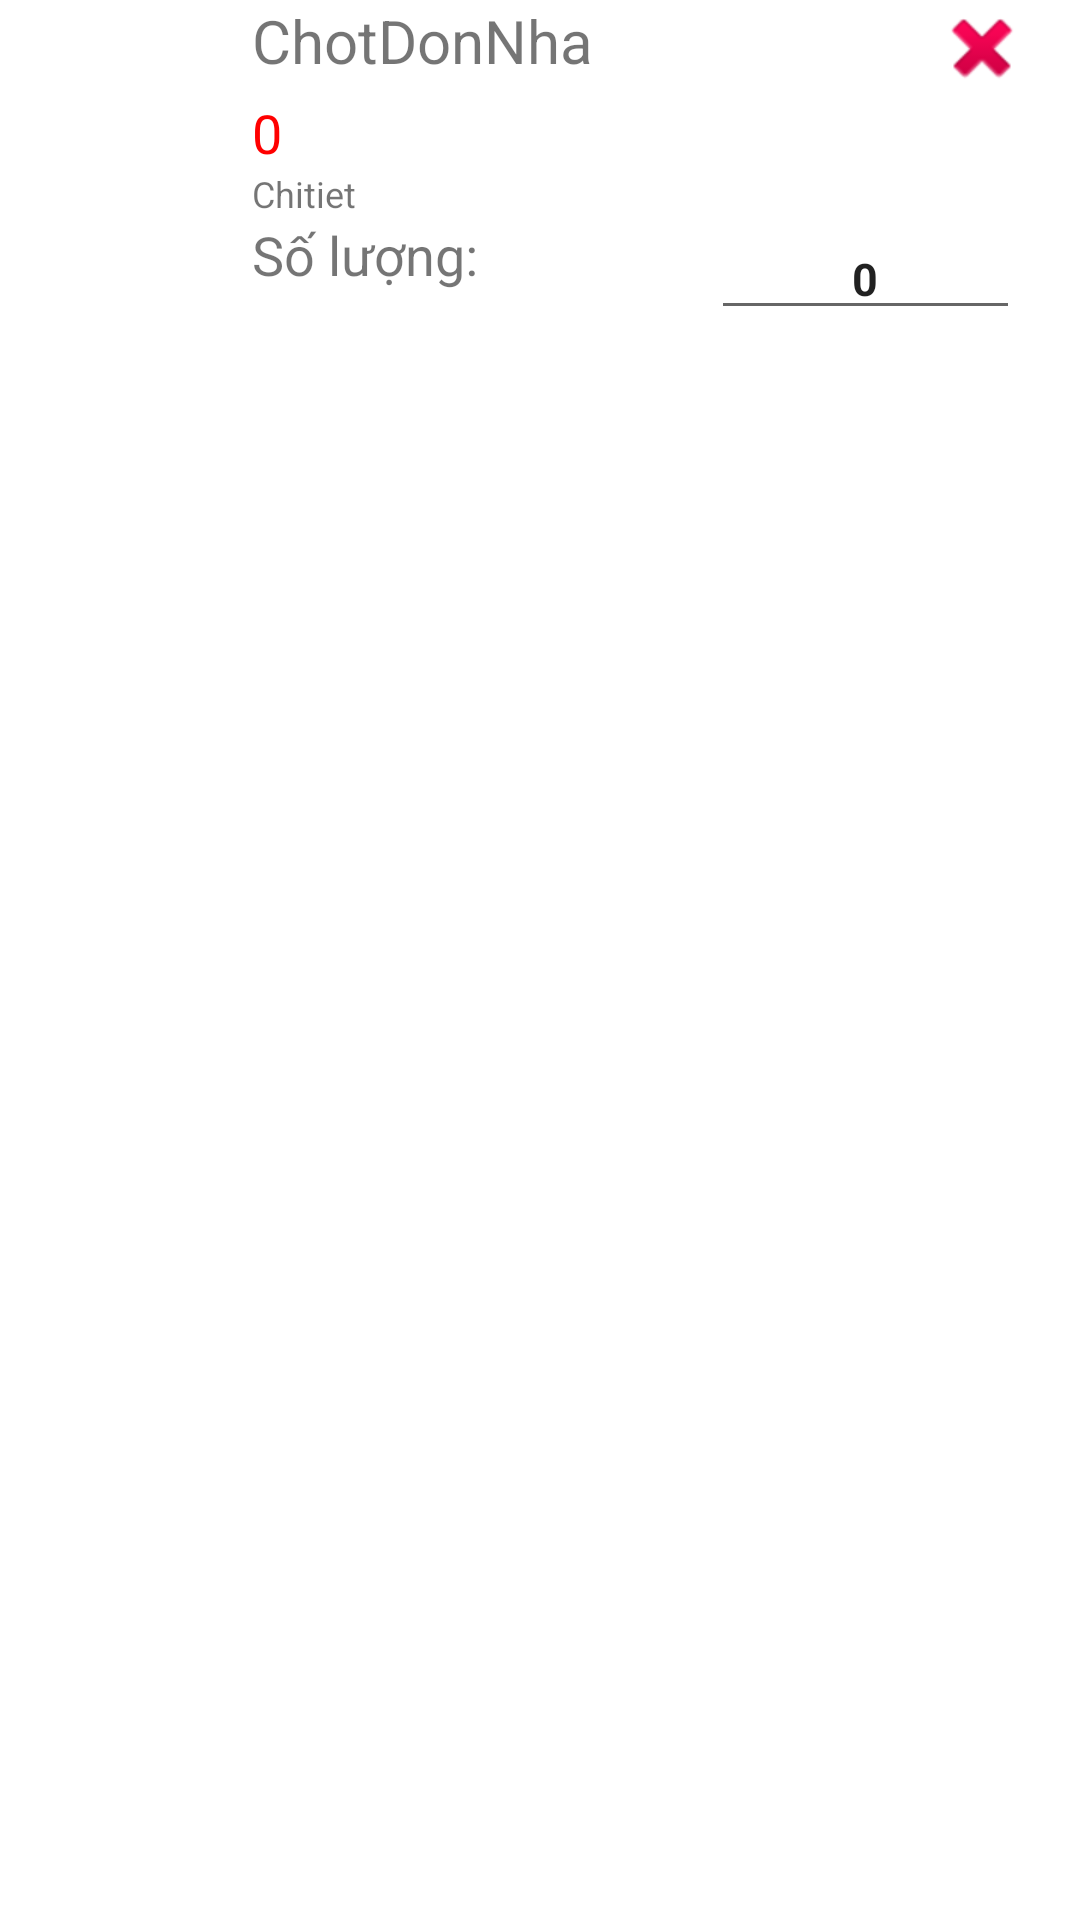

Screen size 1080w x 1920h. Icon name, then its center in pixels as [x,y]:
delete: [982,48]
